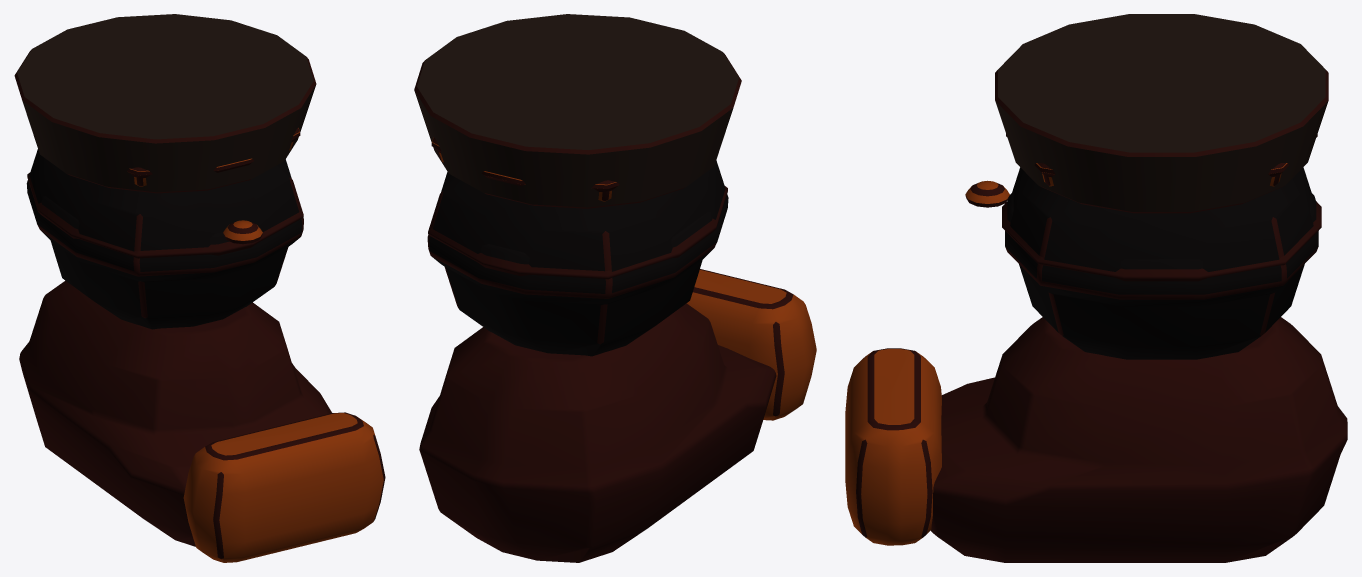
File: Igneo_BotaL.fbx
3 renders of one model, left to right at view 1: azimuth 30°, elevation 25°; view 2: azimuth 150°, elevation 25°; view 3: azimuth 270°, elevation 25°, orthographic. The views are drawn at different scales.
Visible parts, largest first — view 1: Piece; view 2: Piece; view 3: Piece.
Boxes of the visible parts, <box> form: Piece: <box>14,14,385,562</box>; Piece: <box>414,14,816,562</box>; Piece: <box>845,14,1347,562</box>.
Bounding box in the file's own units: 0.2144 × 0.3186 × 0.323.
